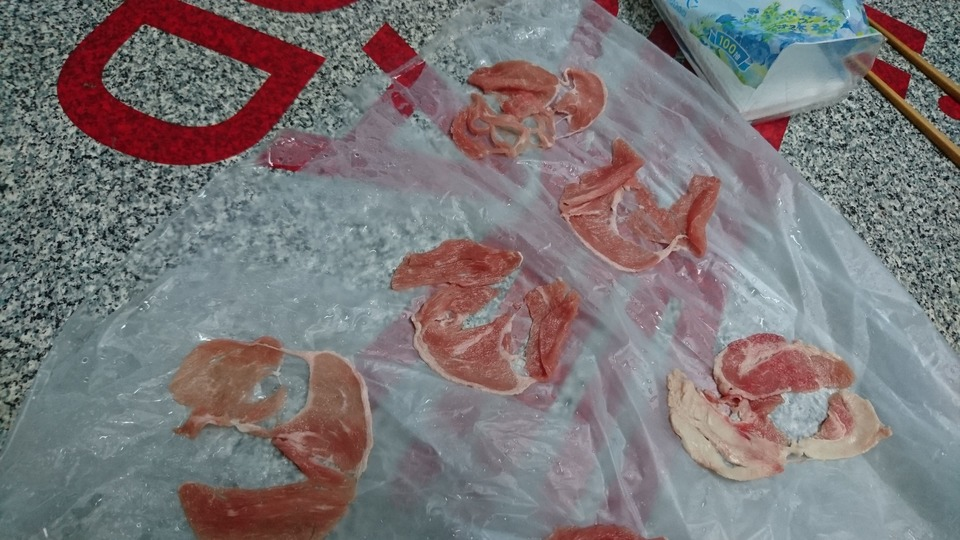restructured meat: (169, 333, 378, 540), (664, 331, 896, 493), (378, 233, 582, 392), (544, 130, 729, 274), (449, 60, 607, 162)
